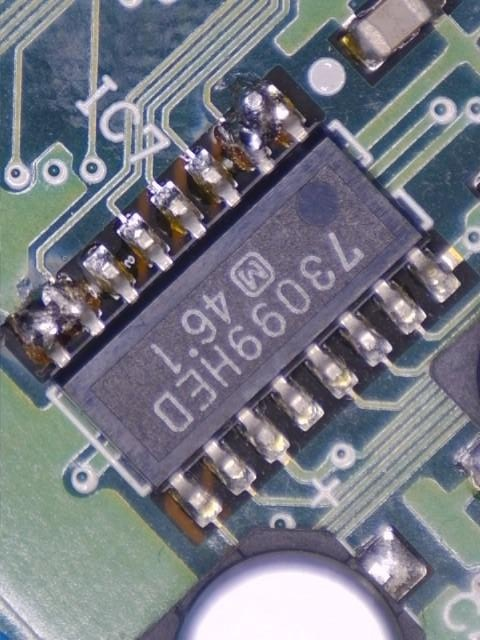pcb_defect: (214, 79, 309, 176), (7, 274, 105, 368)
